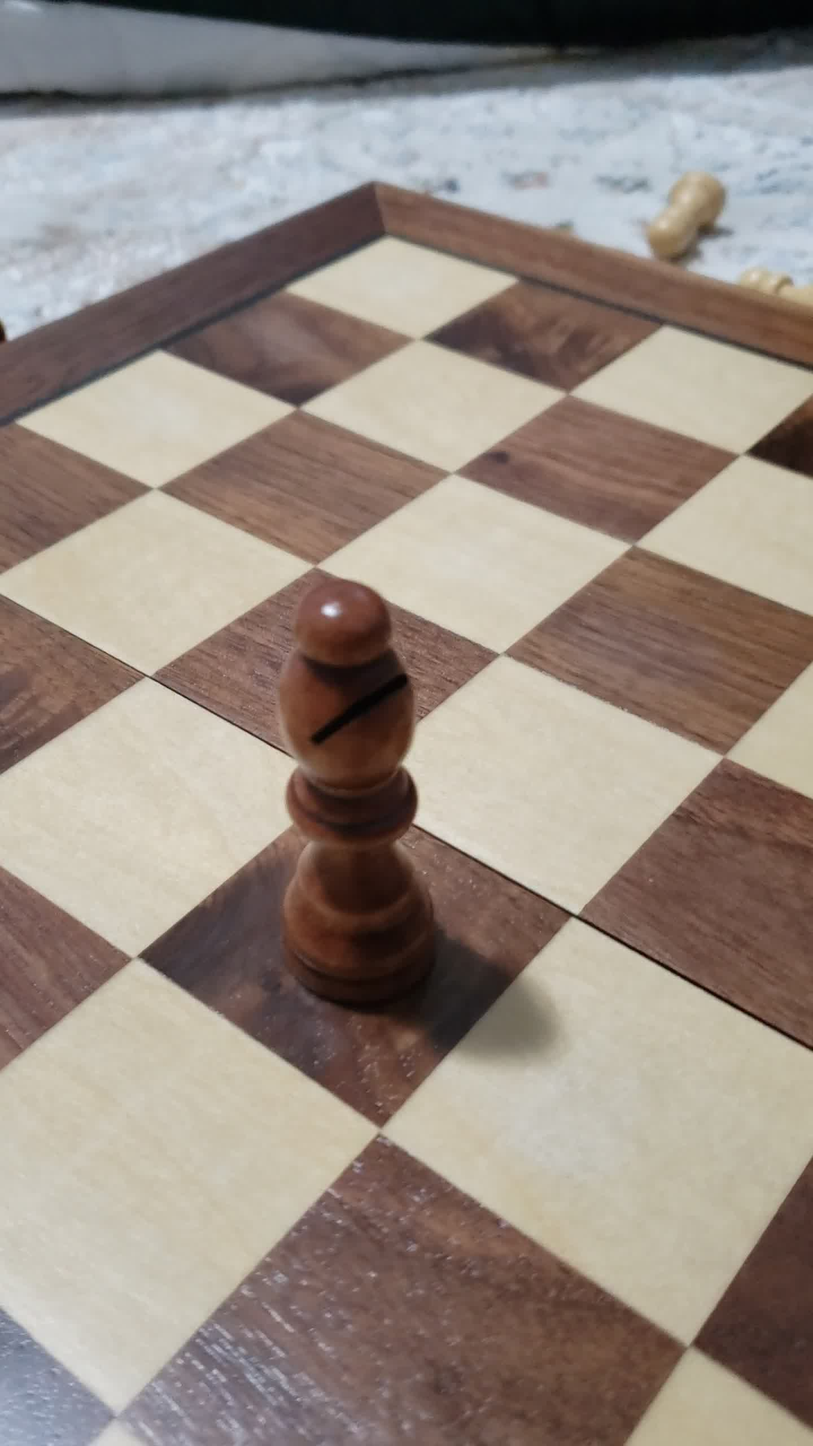black-bishop: (243, 554, 458, 1023)
